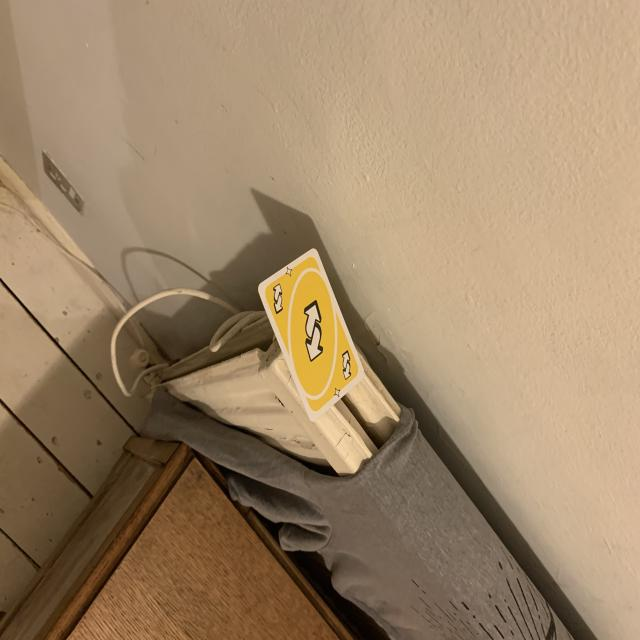lyellowrevers-20: (266, 280, 288, 318)
